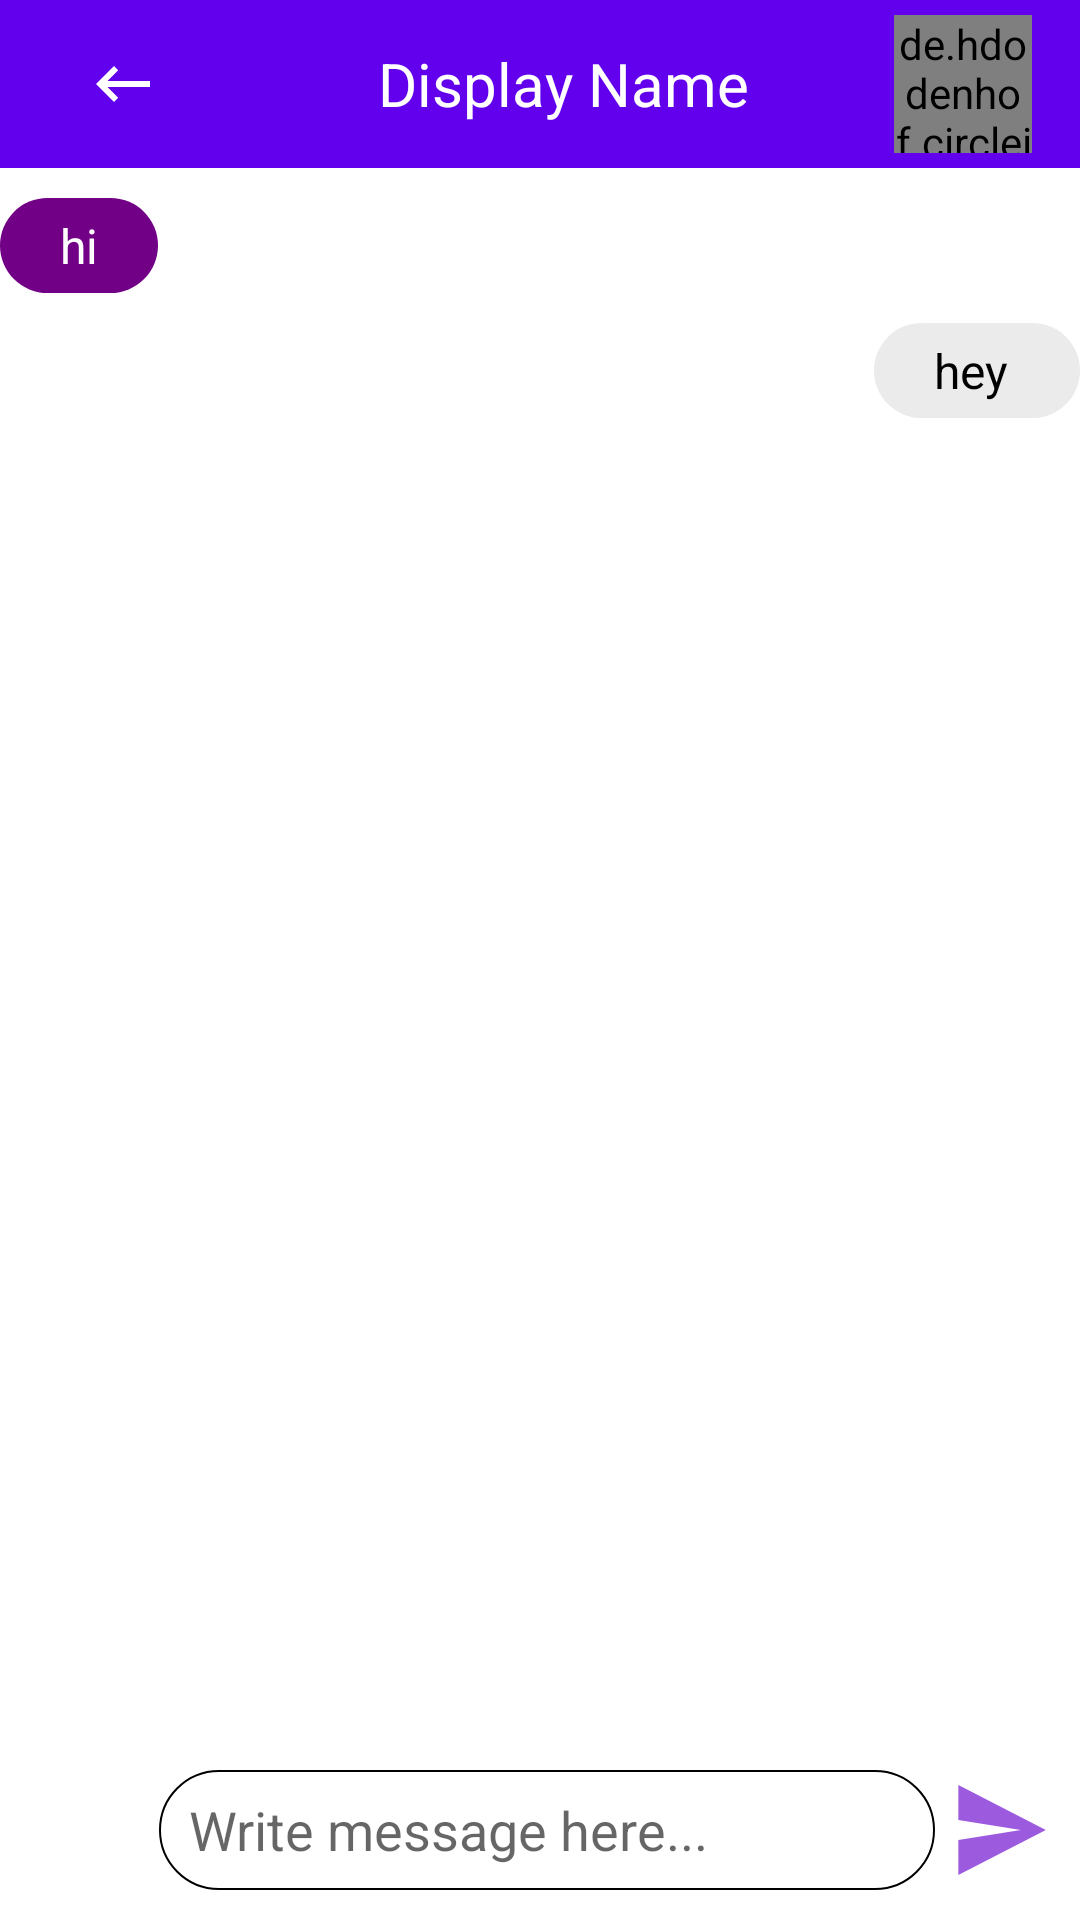

Where to tap for icons on this 1080×1920 app screen, as (x=x, y=y):
back: (x=123, y=84)
send: (x=1002, y=1830)
